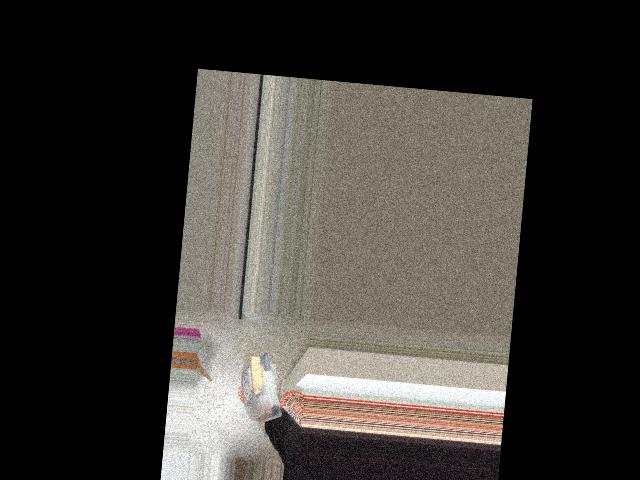cheese: (237, 349, 292, 423)
